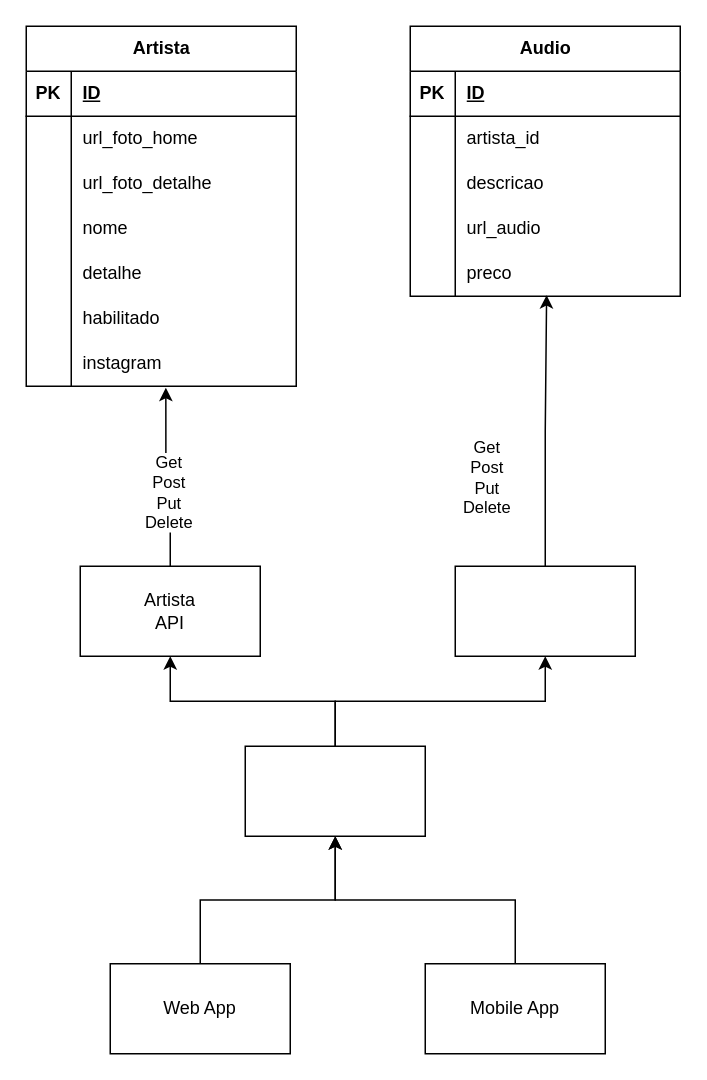
Some shapes in this 707 by 1080 pixel diagram are drawn without their labels. The shapes that lost their labels are listed below. From the top down, each one's centre as x and y in pixels, then its label:
point 544,610: Audio API
point 334,790: Gateway
